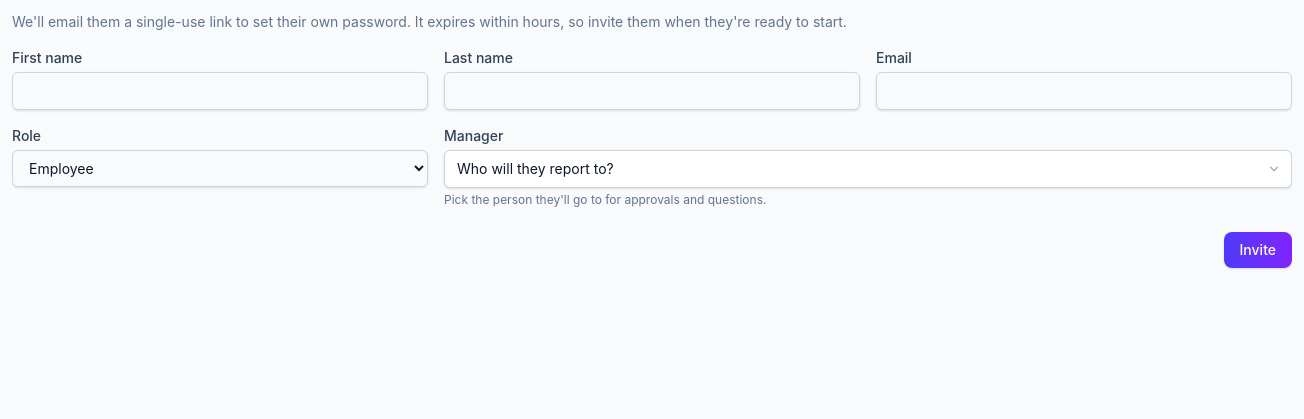
Test: InviteEmployeeForm › submits the invite, shows the returned invite link, and notifies the caller
In the field labelled "First name": (220, 91) [12,72,428,110], type "New"
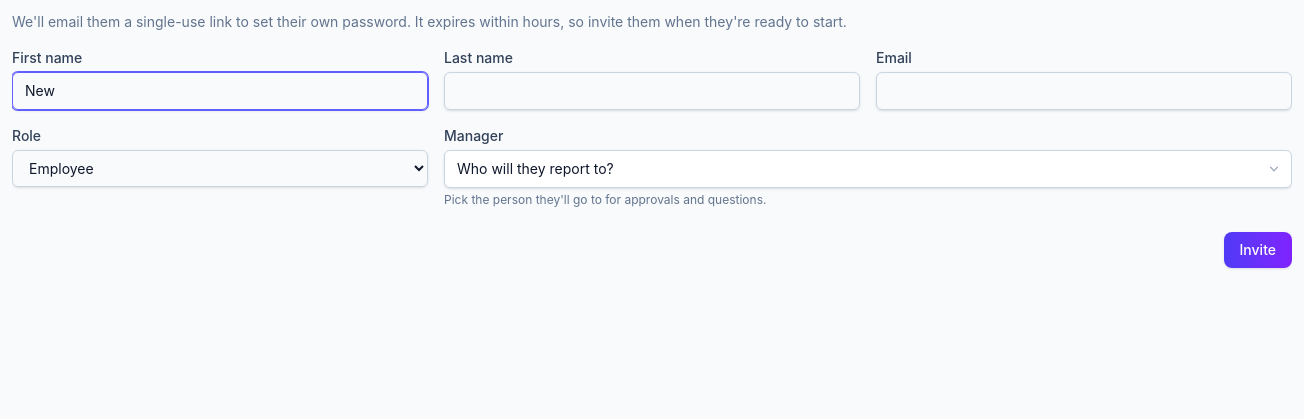
In the field labelled "Last name": (652, 91) [444,72,860,110], type "Hire"
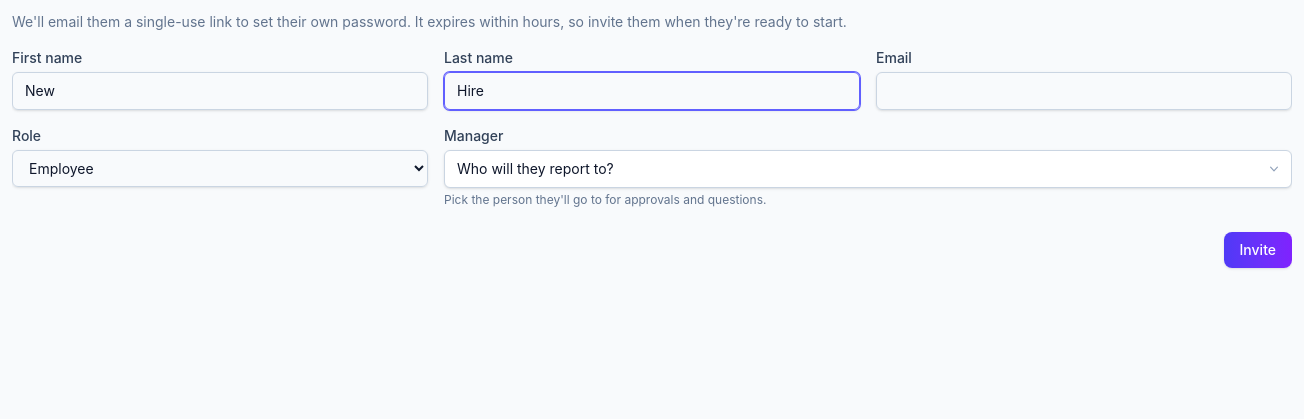
In the field labelled "Email": (1084, 91) [876,72,1292,110], type "new@example.com"
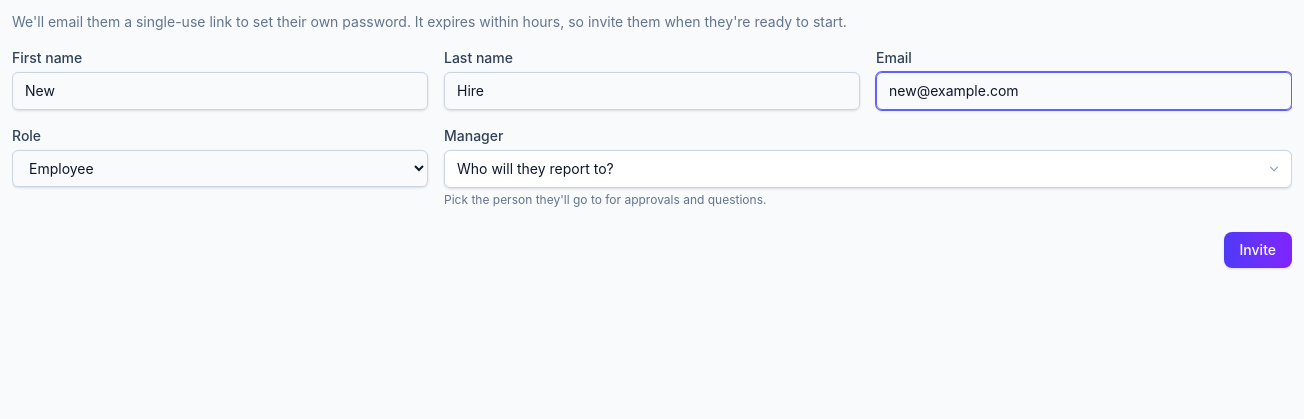
Select "Test User" in the dropdown labelled "Manager": (868, 169) [444,150,1292,188]
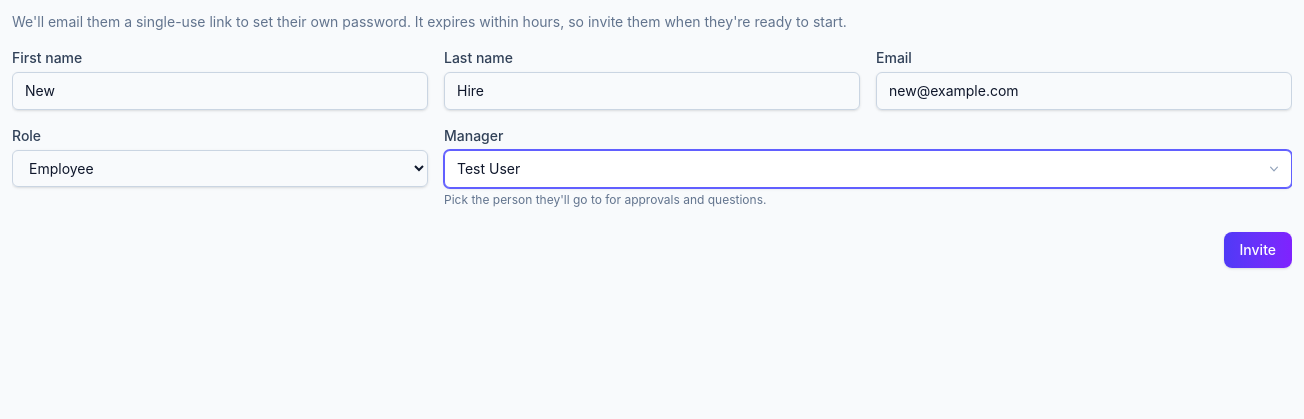
Click the button "Invite": click(1258, 250) [1224,232,1292,268]
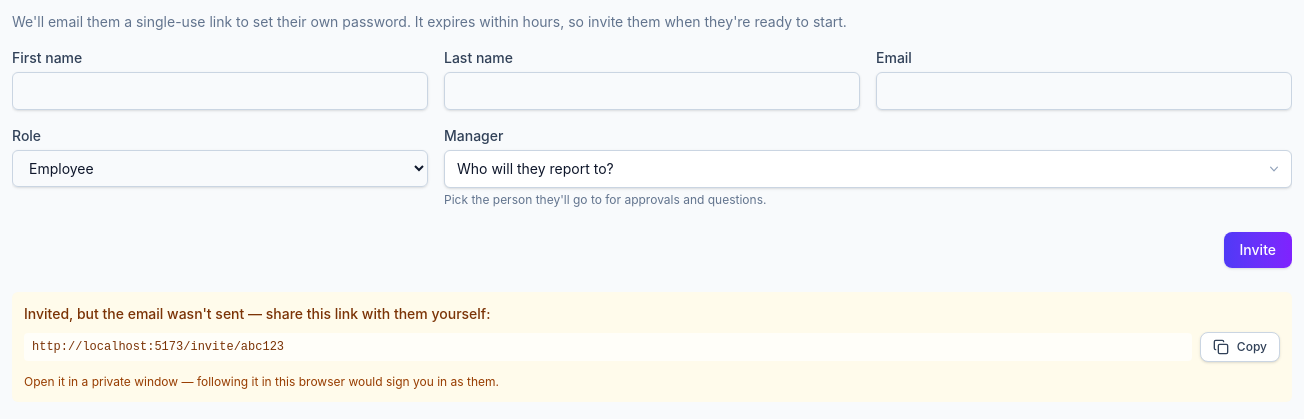
Expected: the text "http://localhost:5173/invite/abc123" is shown, [24,333,1192,361]
